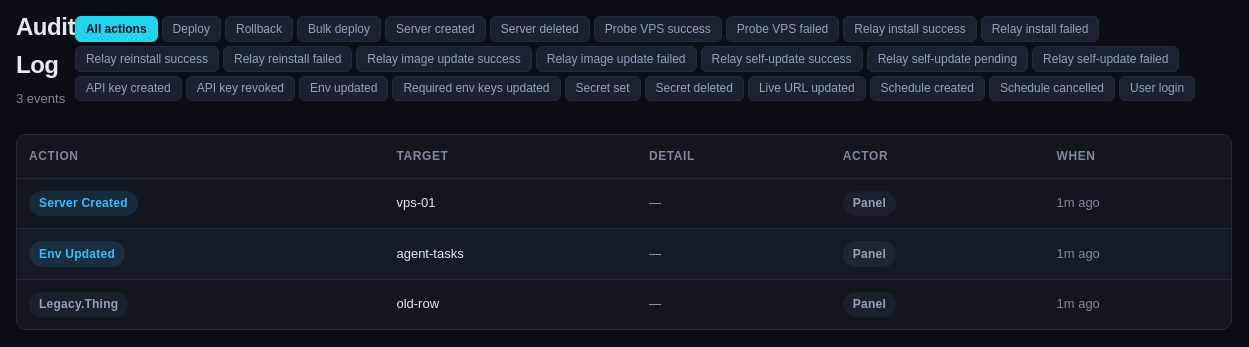
it: AuditPage - one label map for badges and pills › re-renders the rows a pill's fetch returns through the same label map
Expected: the text "vps-01" is shown, left=384, top=179, right=637, bottom=229
Click the button "Secret set": click(602, 88) left=564, top=76, right=640, bottom=101
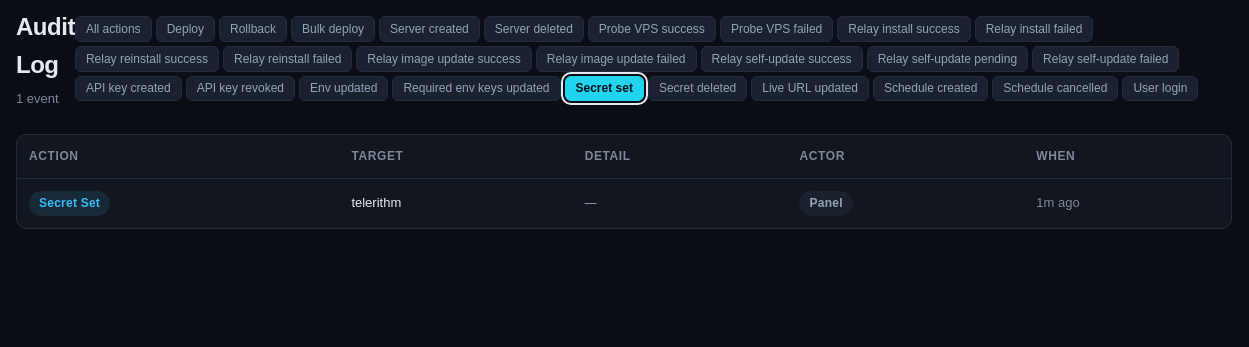
Result: the text "telerithm" is shown at left=339, top=179, right=573, bottom=228
Result: the text with class "badge" reads "Secret set" at left=39, top=196, right=100, bottom=210
